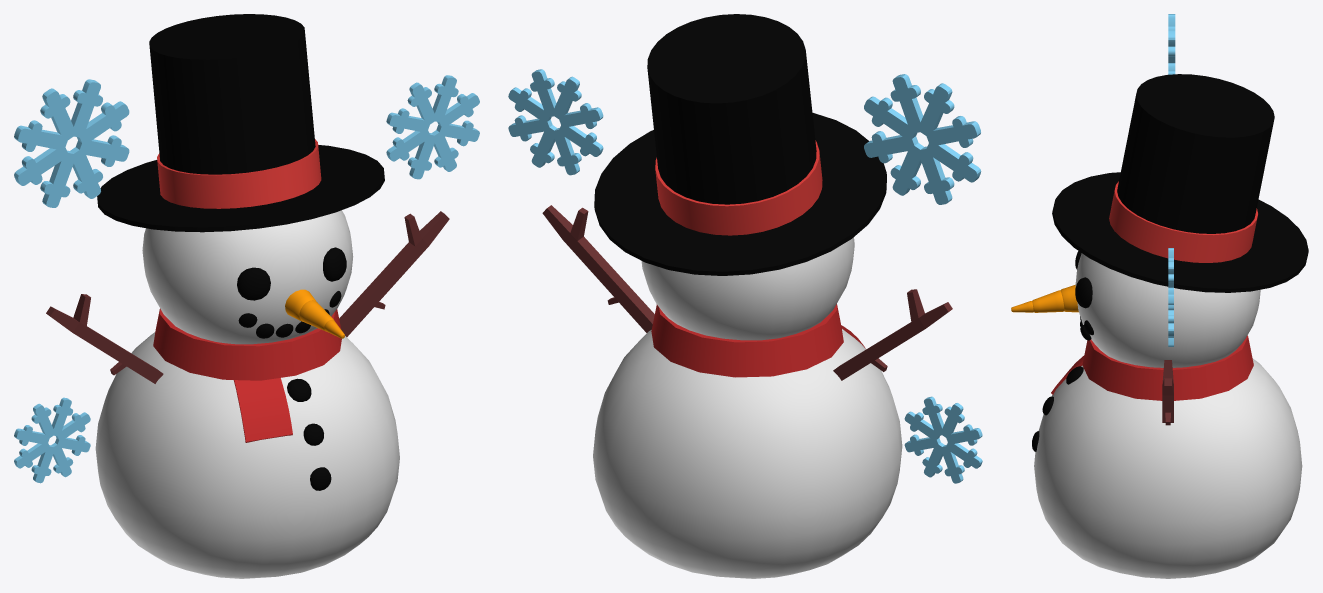
Rendered from snowman.gltf.
The picture shows the model from 3 angles, left to right: view 1: azimuth 30°, elevation 25°; view 2: azimuth 150°, elevation 25°; view 3: azimuth 270°, elevation 25°; orthographic projection. The views are drawn at different scales.
Visible parts, largest first — view 1: Cube.214, Circle.2128, Cube.215, Circle.2130, Circle.2131, Circle.2132, Cube.217, Circle.2133, Cube.216, Circle.2129, Cube.218; view 2: Cube.214, Circle.2128, Cube.215, Circle.2131, Circle.2130, Circle.2132, Cube.217, Circle.2133; view 3: Cube.214, Circle.2128, Cube.215, Circle.2130, Circle.2129, Cube.216, Cube.217, Circle.2132, Circle.2131, Cube.218.
Part boxes in pixels (box(x1,y1,x2,y2)): Cube.214: box(95, 332, 399, 578); Circle.2128: box(97, 14, 384, 232); Cube.215: box(142, 210, 353, 344); Circle.2130: box(153, 308, 341, 442); Circle.2131: box(14, 79, 129, 207); Circle.2132: box(386, 75, 479, 179); Cube.217: box(46, 211, 449, 383); Circle.2133: box(14, 397, 90, 483); Cube.216: box(237, 247, 346, 338); Circle.2129: box(285, 289, 344, 338); Cube.218: box(287, 378, 331, 490); Cube.214: box(593, 329, 902, 578); Circle.2128: box(594, 14, 886, 275); Cube.215: box(641, 237, 854, 340); Circle.2131: box(864, 74, 981, 204); Circle.2130: box(651, 304, 865, 377); Circle.2132: box(508, 69, 603, 175); Cube.217: box(542, 205, 952, 380); Circle.2133: box(904, 396, 982, 483); Cube.214: box(1034, 358, 1302, 578); Circle.2128: box(1052, 74, 1308, 292); Cube.215: box(1075, 253, 1260, 367); Circle.2130: box(1051, 335, 1253, 400); Circle.2129: box(1011, 284, 1078, 312); Cube.216: box(1075, 251, 1093, 340); Cube.217: box(1162, 360, 1173, 425); Circle.2132: box(1168, 248, 1173, 346); Circle.2131: box(1168, 14, 1175, 74); Cube.218: box(1032, 366, 1083, 451).
Bounding box in the file's own units: 2.06 × 2.17 × 1.28.
1 material, 1 textured.
